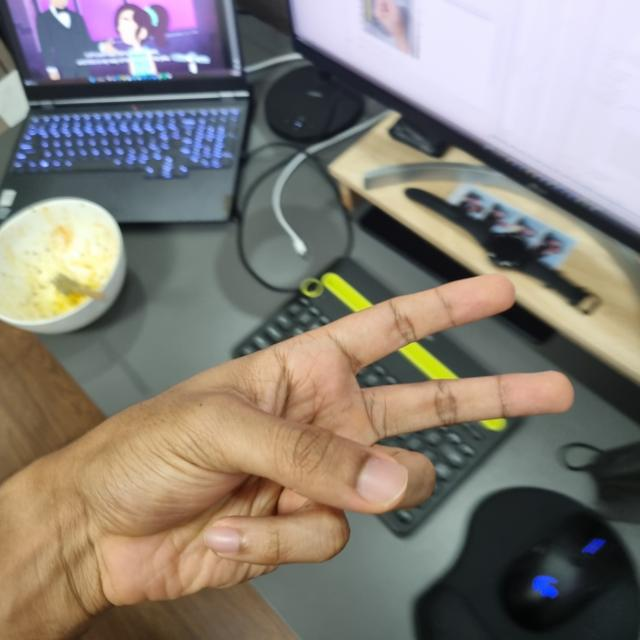Scissors: (24, 274, 575, 612)
